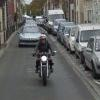Motorcycle: (26, 38, 60, 88)
